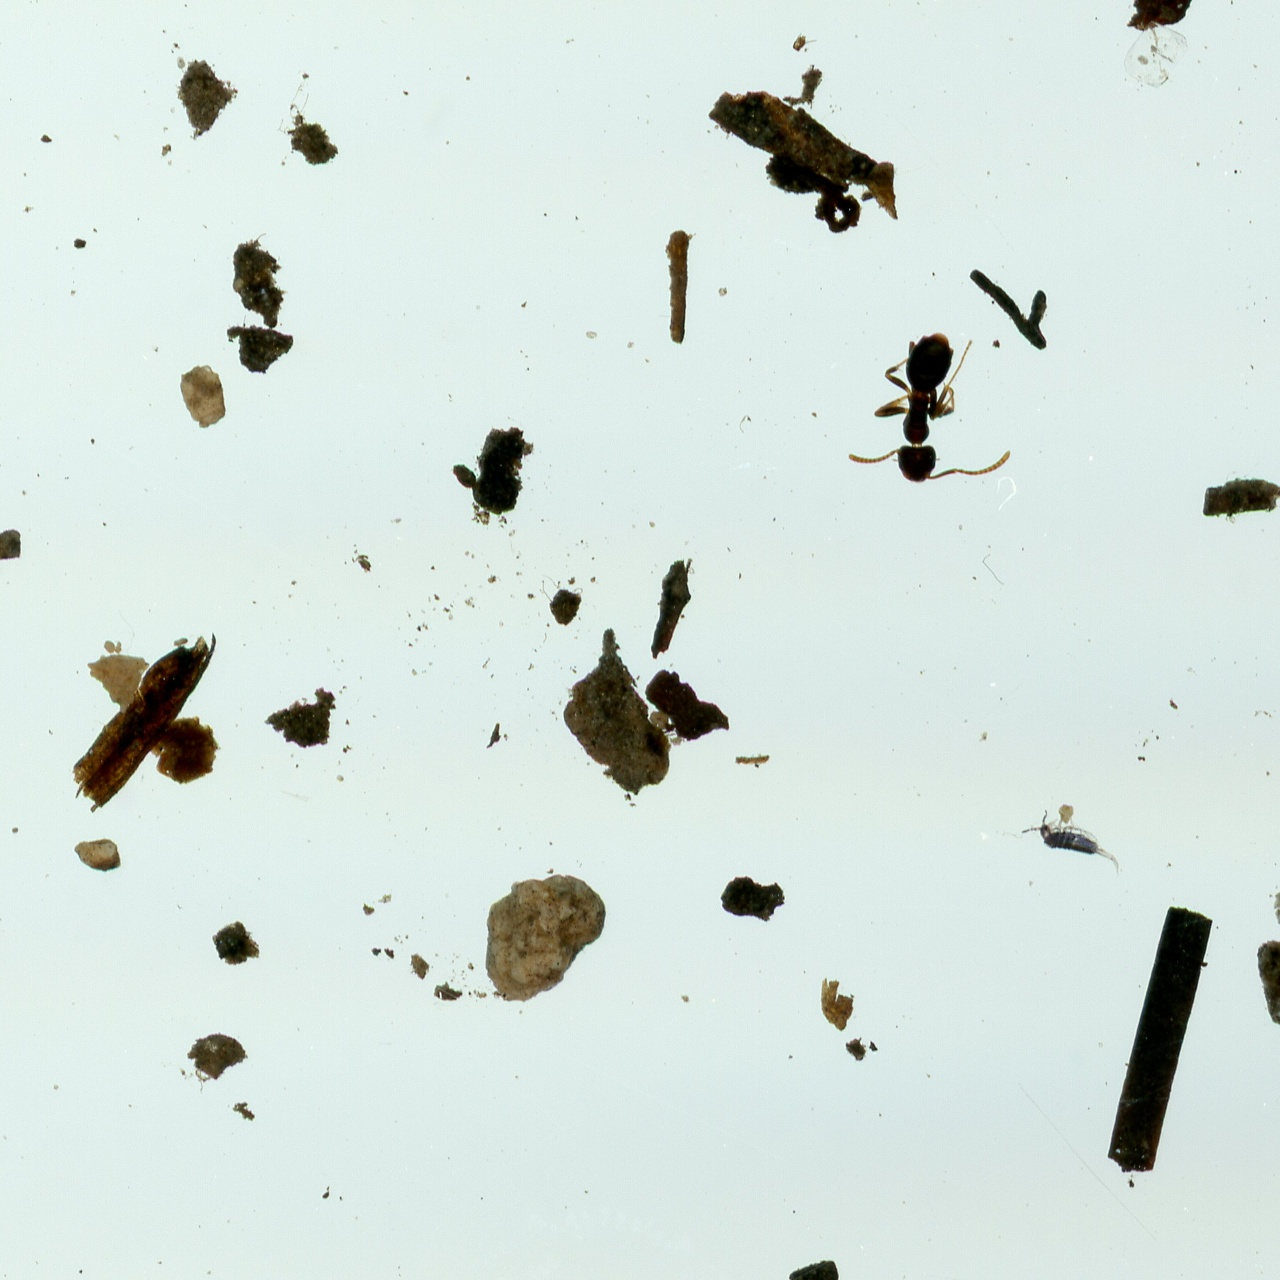arthropod: (847, 328, 1019, 483), (1017, 805, 1128, 865)
